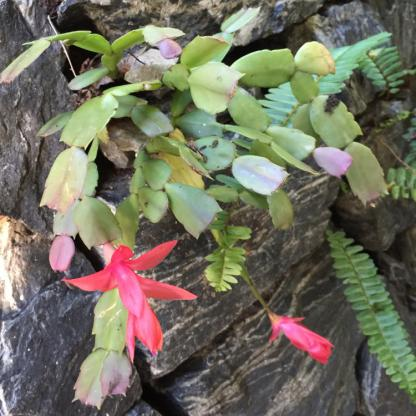Aglonema: (235, 4, 323, 34)
